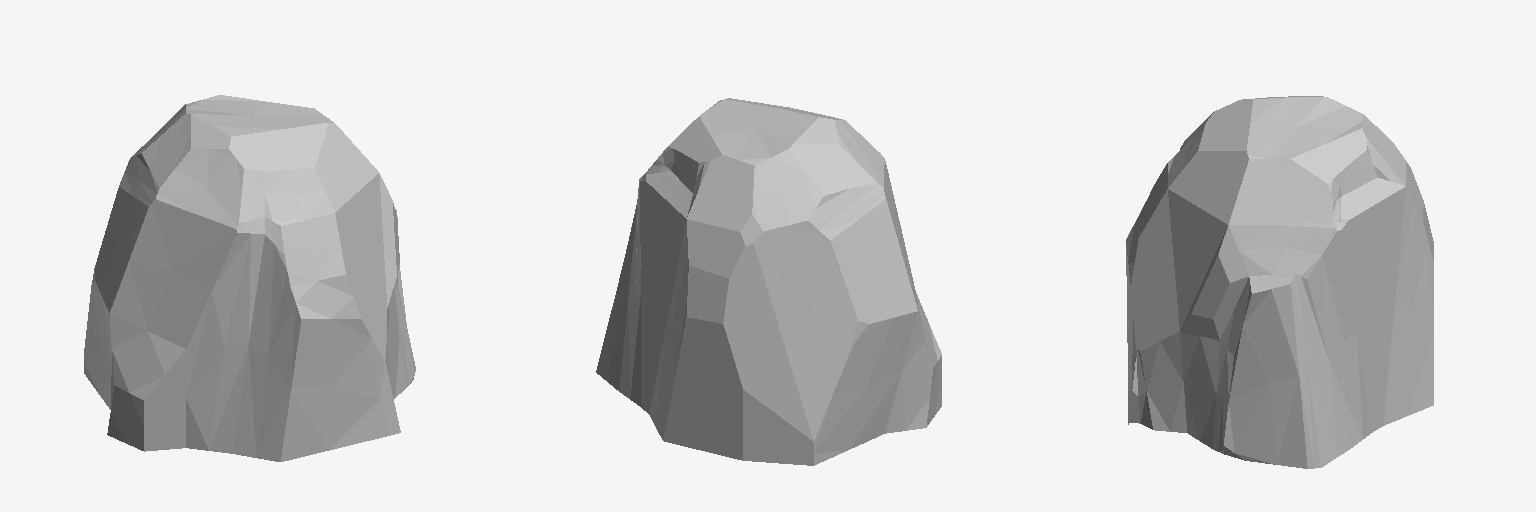
Rendered from Rock_02_Hite.obj.
3 renders of one model, left to right at view 1: azimuth 30°, elevation 25°; view 2: azimuth 150°, elevation 25°; view 3: azimuth 270°, elevation 25°, orthographic.
Visible parts, largest first — view 1: pCube1; view 2: pCube1; view 3: pCube1.
Boxes of the visible parts, x1,y1,x2,y2 form: pCube1: [84, 95, 415, 461]; pCube1: [596, 98, 941, 465]; pCube1: [1126, 96, 1433, 468].
Size of the model in its own units: 19.53 by 16.82 by 16.98.